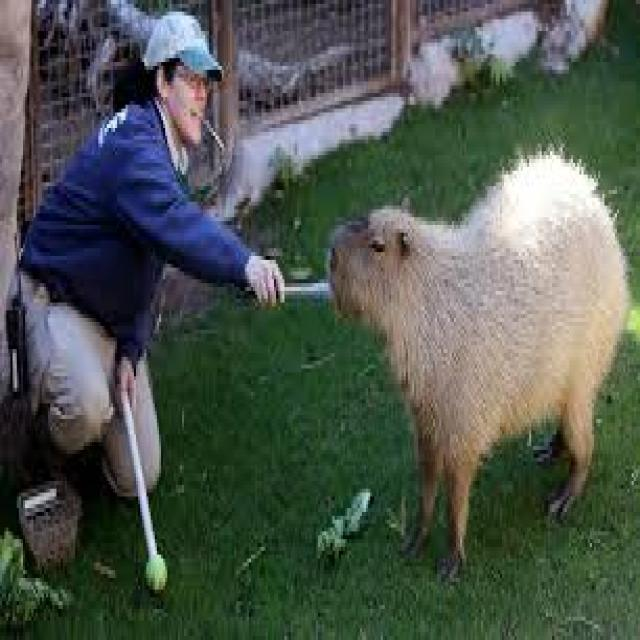capy: (326, 146, 631, 592)
